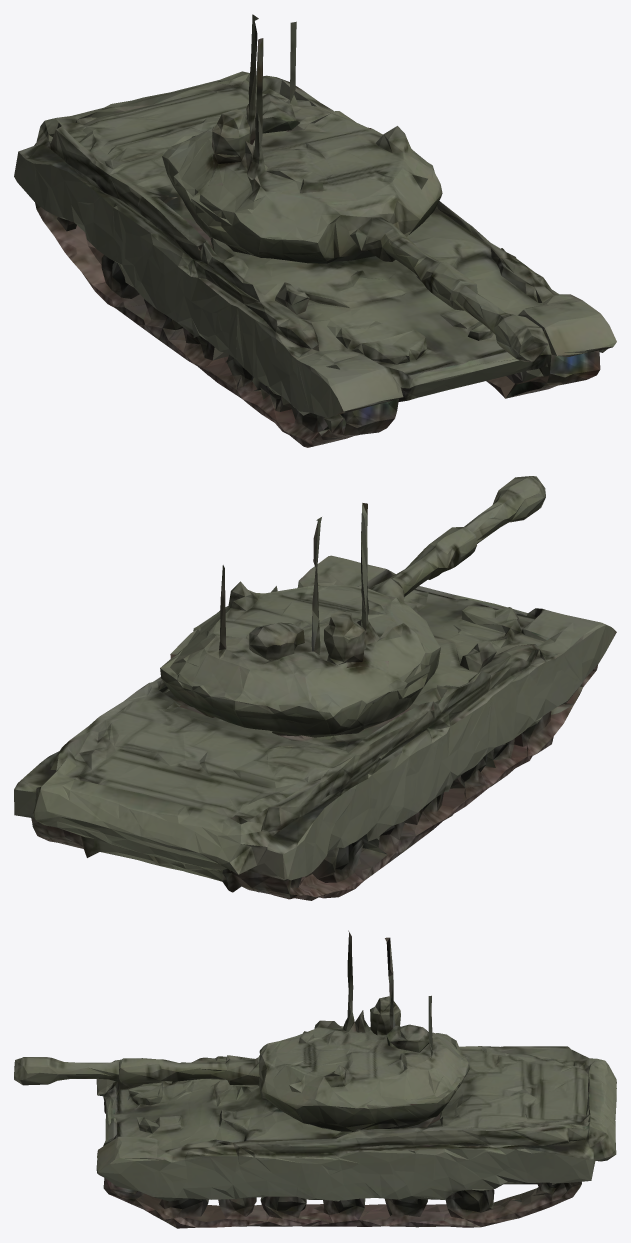
The model's file is veh_t90m.glb.
The picture shows the model from 3 angles, top to bottom: view 1: azimuth 30°, elevation 25°; view 2: azimuth 150°, elevation 25°; view 3: azimuth 270°, elevation 25°; orthographic projection. The views are drawn at different scales.
Visible parts, largest first — view 1: veh_t90m_tex; view 2: veh_t90m_tex; view 3: veh_t90m_tex.
Boxes of the visible parts, <box> form: veh_t90m_tex: <box>14,14,616,447</box>; veh_t90m_tex: <box>14,476,616,900</box>; veh_t90m_tex: <box>14,930,616,1228</box>.
Bounding box in the file's own units: 2.96 × 3.17 × 7.4.
Materials: 1 (1 with a texture image).
